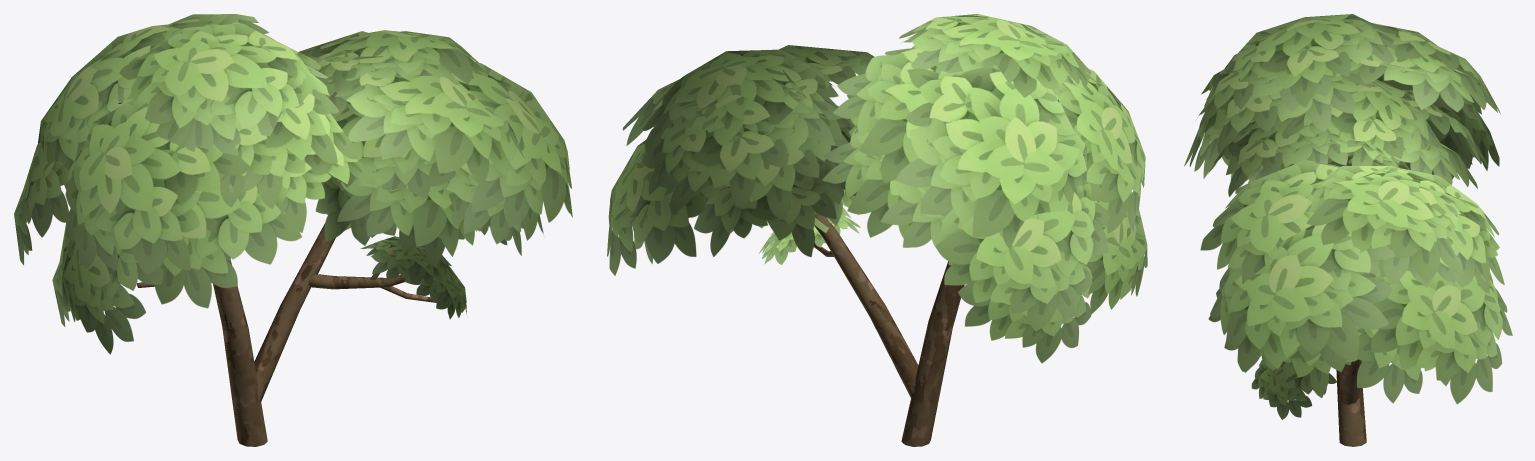
File: street-tree-4.glb
3 views of the same model, side by side, from view 1: azimuth 30°, elevation 25°; view 2: azimuth 150°, elevation 25°; view 3: azimuth 270°, elevation 25° (orthographic). The views are drawn at different scales.
Parts seen in each view (by area): view 1: Tree_8; view 2: Tree_8; view 3: Tree_8.
Boxes of the visible parts, left/top/right/bottom form: Tree_8: left=14, top=14, right=572, bottom=446; Tree_8: left=607, top=14, right=1147, bottom=446; Tree_8: left=1184, top=14, right=1512, bottom=446.
Size of the model in its own units: 6.94 by 5.52 by 4.39.
2 materials, 2 textured.
